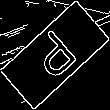P_SE: (25, 24, 85, 86)
